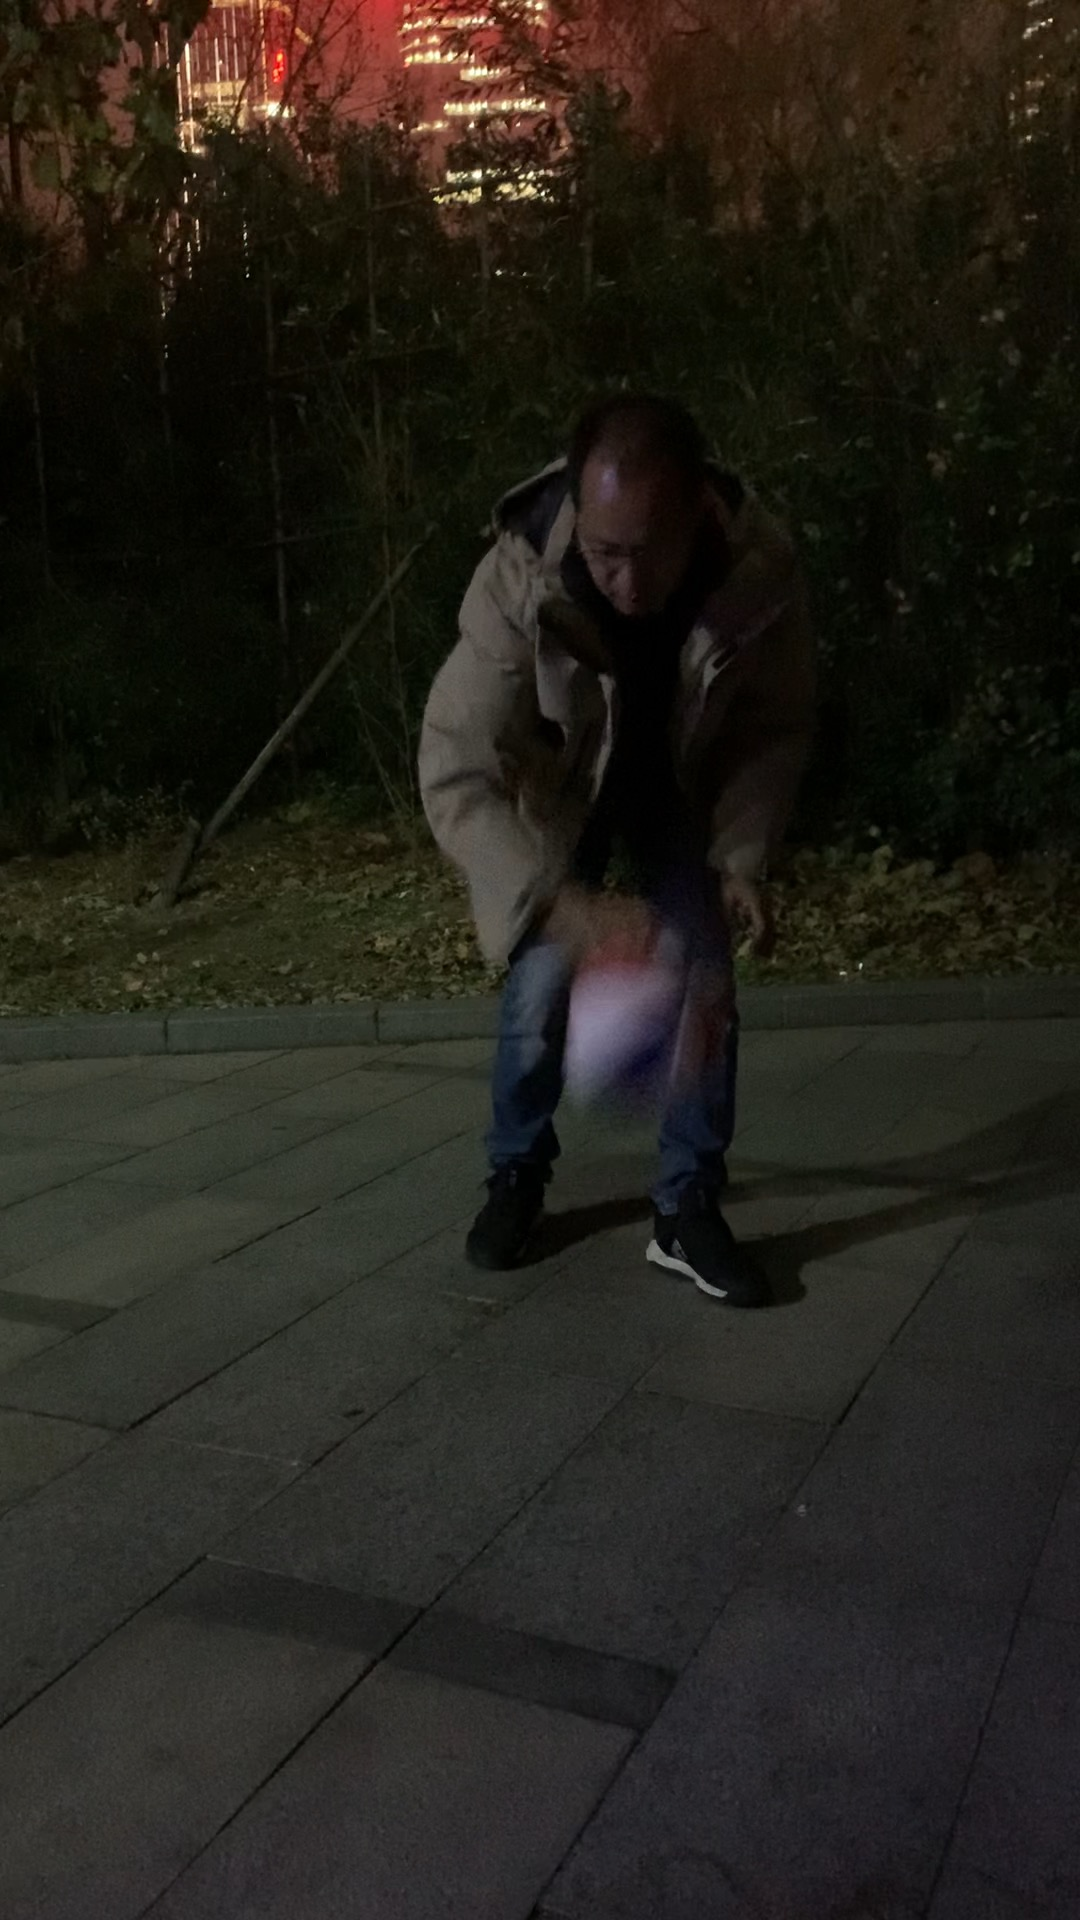ball: (562, 935, 732, 1088)
